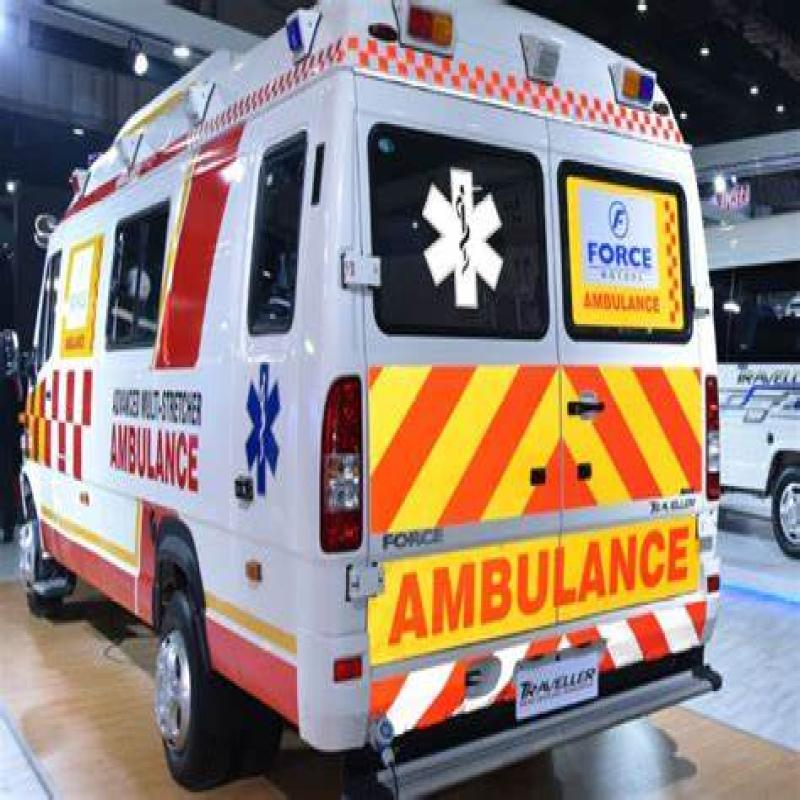AmbulanceSiren: (606, 53, 656, 118), (398, 8, 463, 54)
